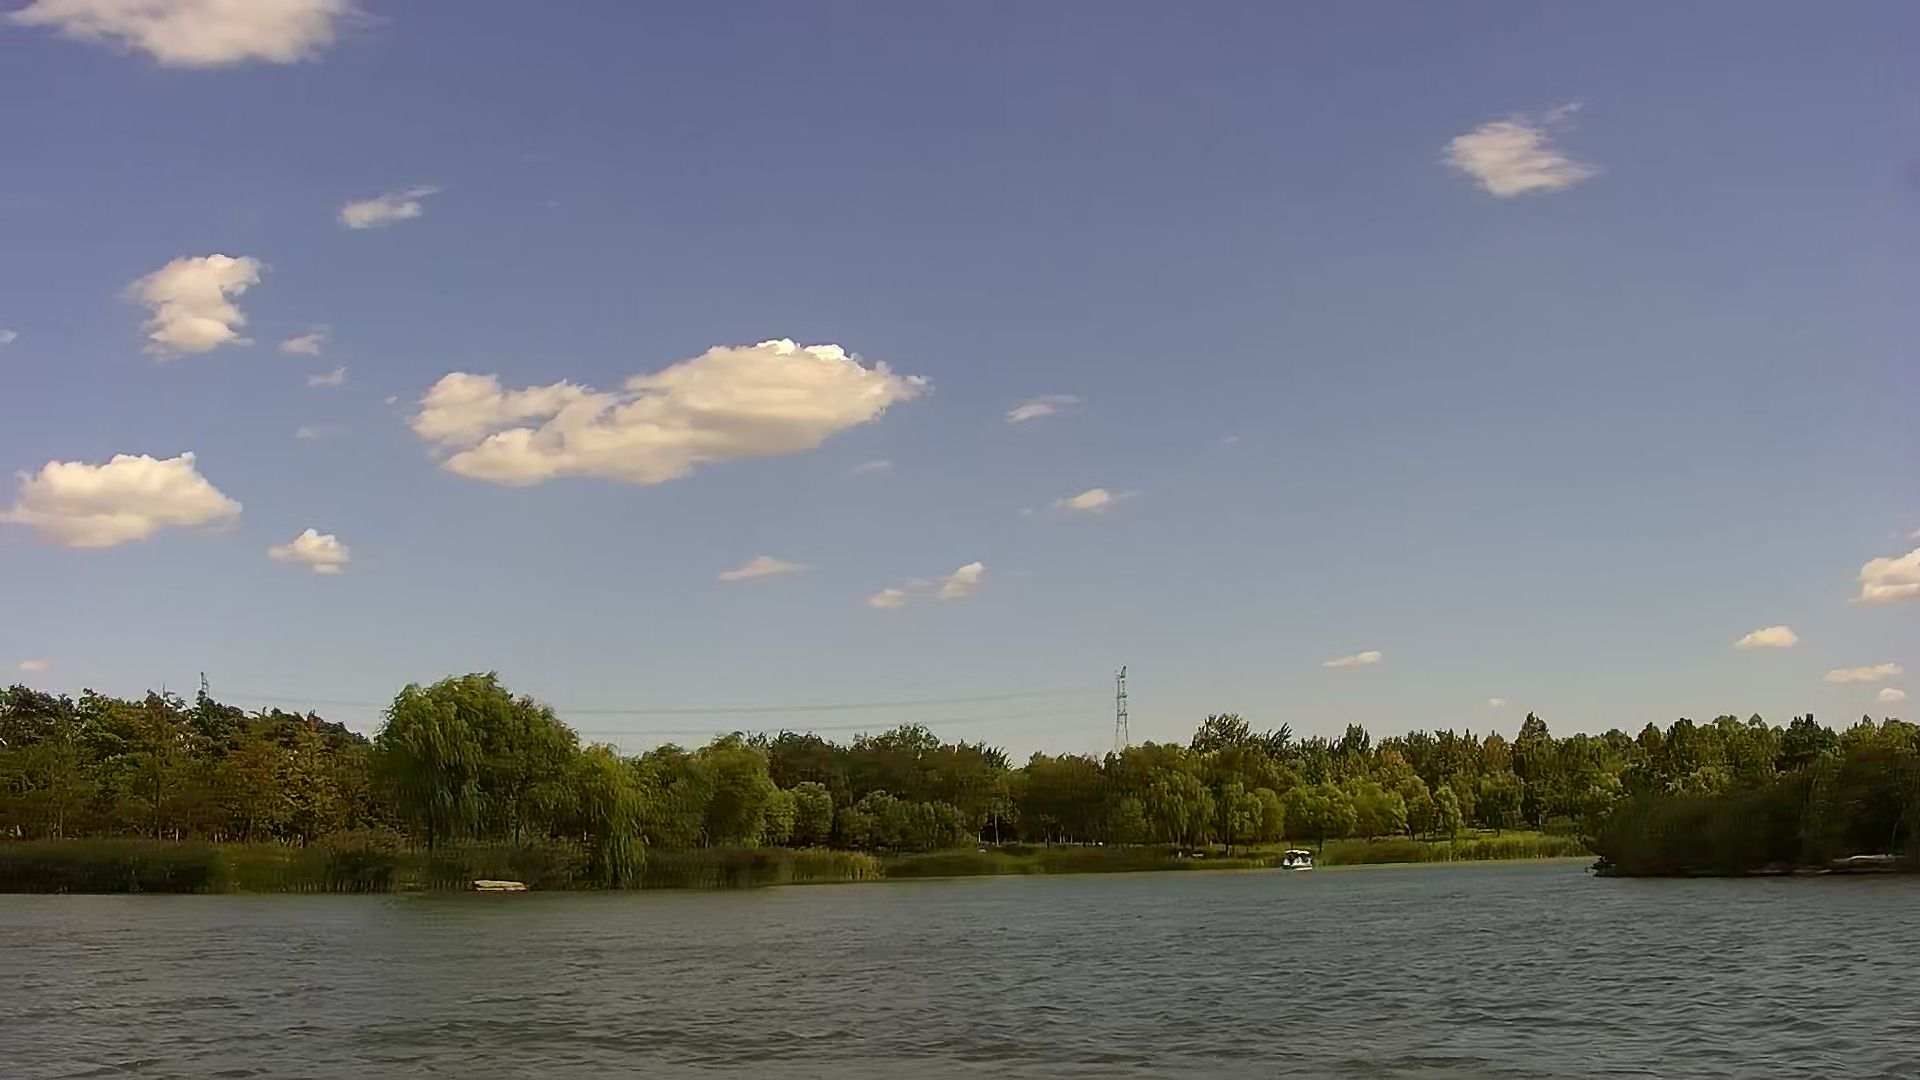boat: (1282, 843, 1313, 869)
rock: (1840, 849, 1903, 880), (479, 880, 527, 894)
